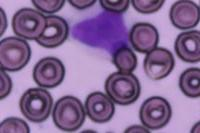M: (68, 6, 132, 59)
